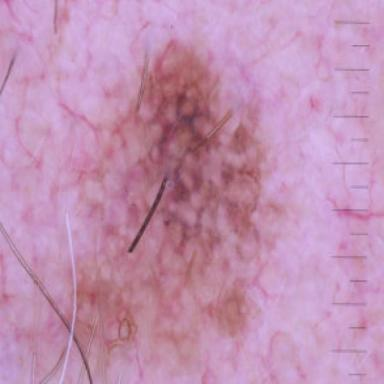Melanoma: (67, 35, 272, 357)
